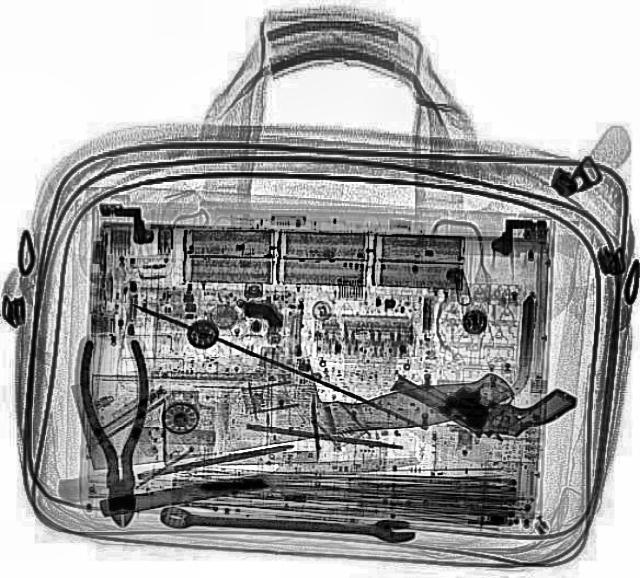Gun: (390, 324, 578, 462)
Knife: (70, 318, 514, 476), (97, 446, 421, 516)
Pliers: (76, 338, 152, 528)
Wrench: (158, 505, 416, 545)
